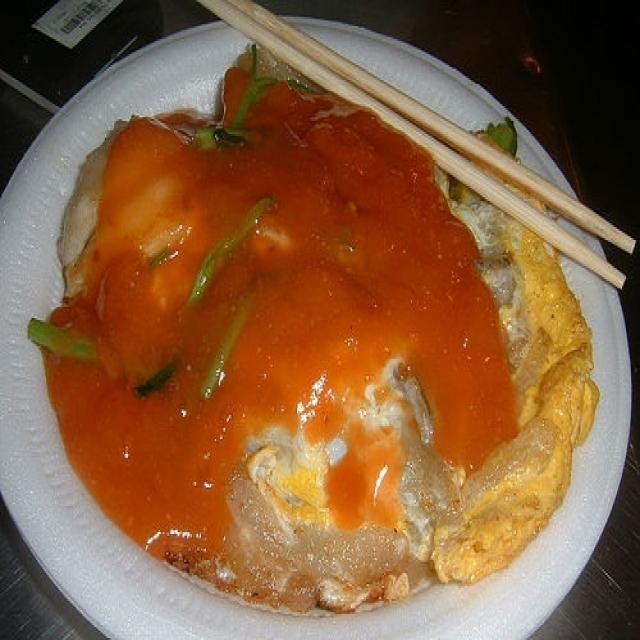熟制海鲜: (22, 20, 613, 630)
